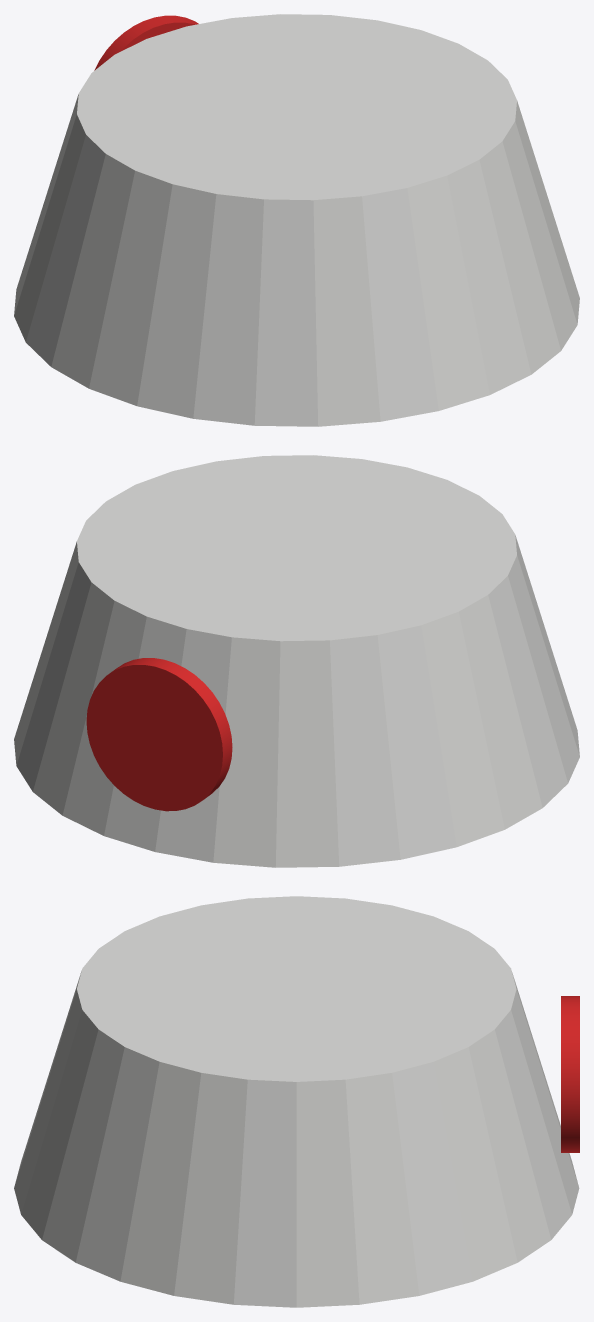
3 renders of one model, top to bottom at view 1: azimuth 30°, elevation 25°; view 2: azimuth 150°, elevation 25°; view 3: azimuth 270°, elevation 25°, orthographic.
Parts seen in each view (by area): view 1: J15a_sol00, J15a_d00; view 2: J15a_sol00, J15a_d00; view 3: J15a_sol00, J15a_d00.
Boxes of the visible parts, x1,y1,x2,y2 form: J15a_sol00: [14, 14, 579, 426]; J15a_d00: [94, 15, 198, 70]; J15a_sol00: [14, 455, 579, 867]; J15a_d00: [86, 658, 232, 811]; J15a_sol00: [14, 896, 579, 1307]; J15a_d00: [561, 996, 579, 1152].
Bounding box in the file's own units: 0.18 × 0.07 × 0.1802.
